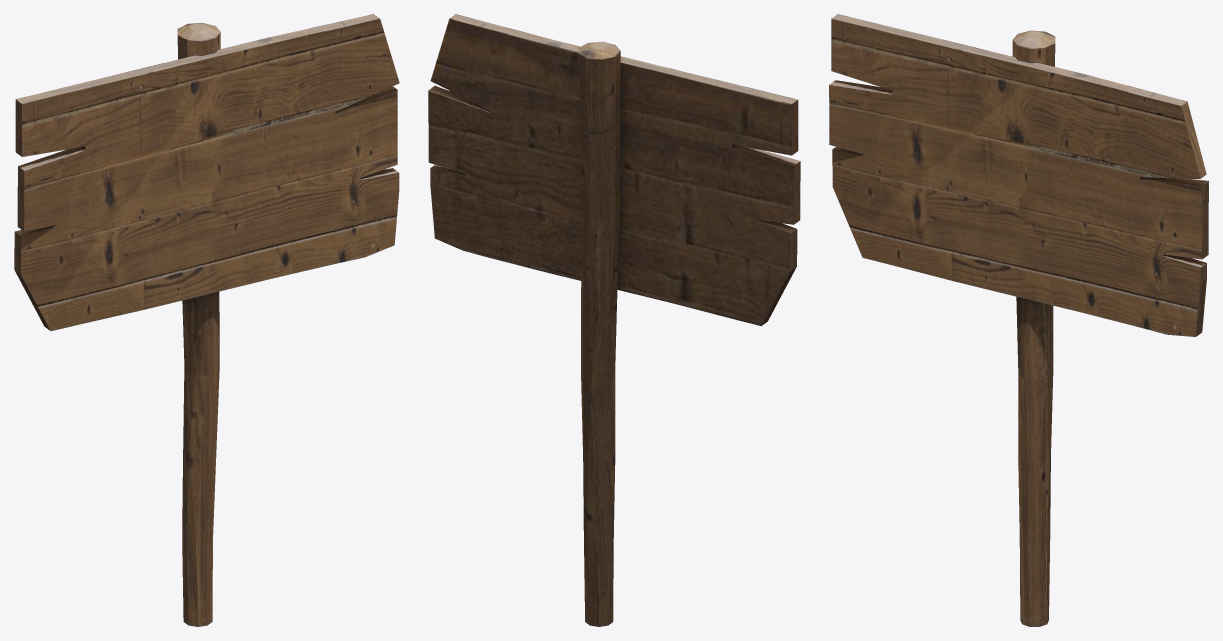
Rendered from wooden_sign_4_dark.glb.
3 renders of one model, left to right at view 1: azimuth 30°, elevation 25°; view 2: azimuth 150°, elevation 25°; view 3: azimuth 330°, elevation 25°, orthographic. The views are drawn at different scales.
Visible parts, largest first — view 1: Signpost_Tall_Baked_dark; view 2: Signpost_Tall_Baked_dark; view 3: Signpost_Tall_Baked_dark.
Part boxes in pixels (x1,y1,x2,y2): Signpost_Tall_Baked_dark: (14,14,399,626); Signpost_Tall_Baked_dark: (428,14,800,626); Signpost_Tall_Baked_dark: (829,14,1208,626).
Size of the model in its own units: 2 by 3.02 by 0.2602.
Materials: 1 (1 with a texture image).
